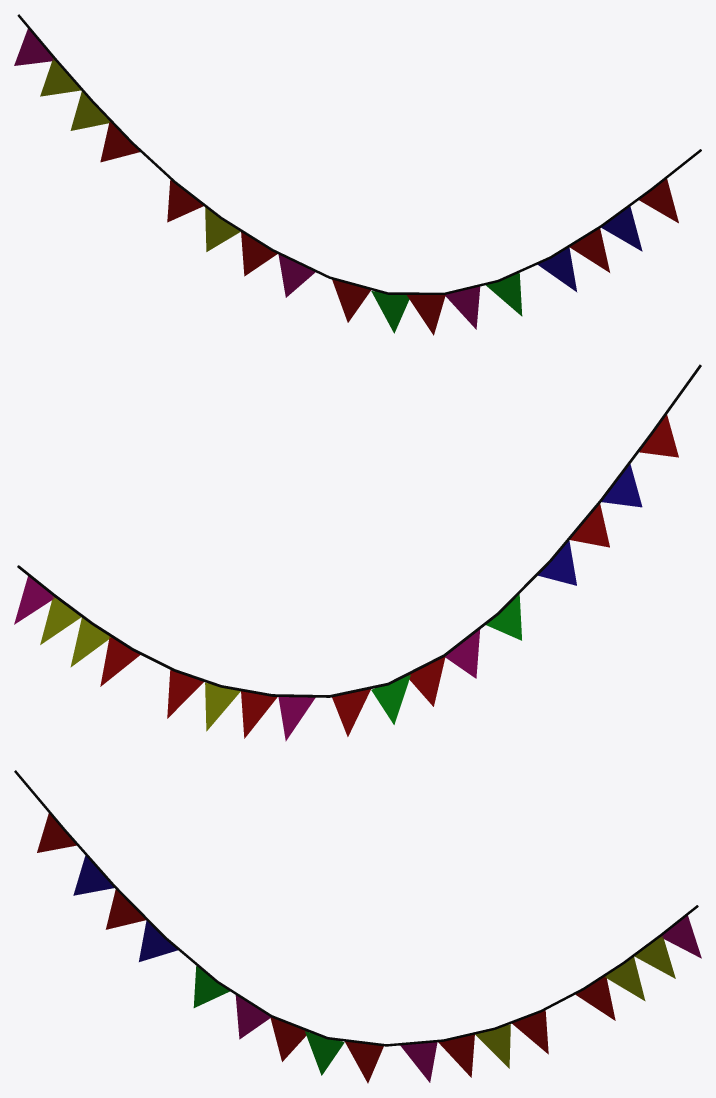
Rendered from PartyTriangles.FBX.
3 views of the same model, one above another, from view 1: azimuth 90°, elevation 25°; view 2: azimuth 150°, elevation 25°; view 3: azimuth 270°, elevation 25° (orthographic). The views are drawn at different scales.
Parts seen in each view (by area): view 1: Line002; view 2: Line002; view 3: Line002.
Boxes of the visible parts, <box> form: Line002: <box>14,14,701,335</box>; Line002: <box>14,364,701,741</box>; Line002: <box>14,770,701,1083</box>.
Bounding box in the file's own units: 61.8 × 51.8 × 132.
